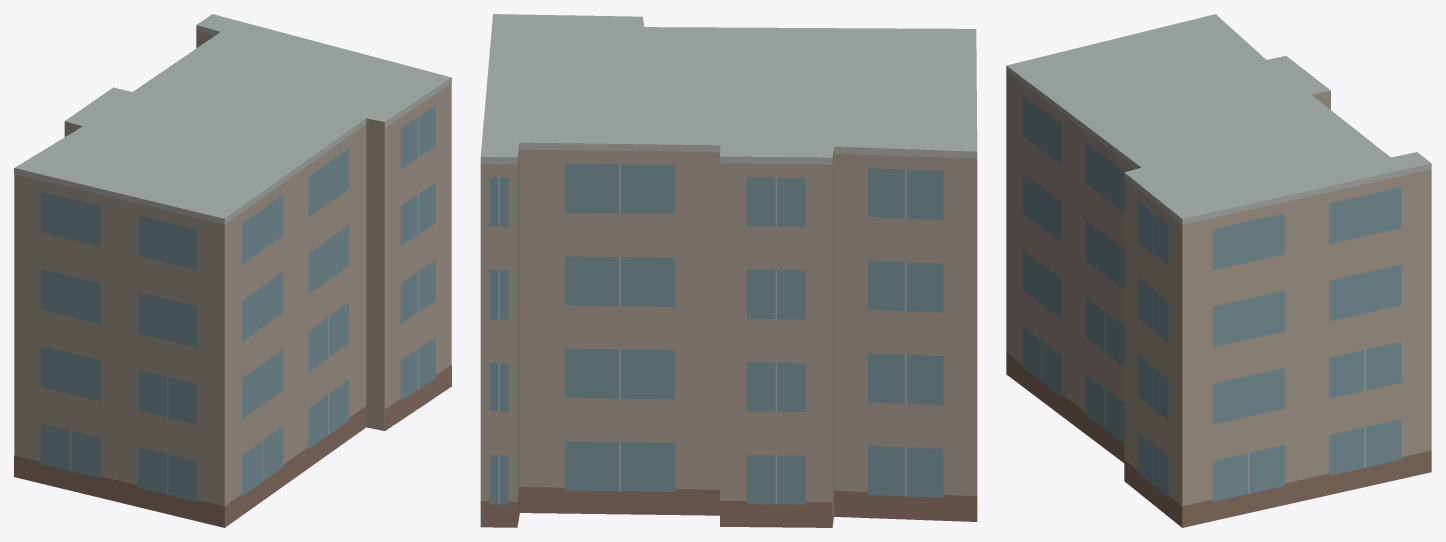
The model's file is survey-upis-32508800.glb.
3 views of the same model, side by side, from view 1: azimuth 30°, elevation 25°; view 2: azimuth 150°, elevation 25°; view 3: azimuth 270°, elevation 25° (orthographic). The views are drawn at different scales.
Parts seen in each view (by area): view 1: survey-upis-32508800.tmp; view 2: survey-upis-32508800.tmp; view 3: survey-upis-32508800.tmp.
Boxes of the visible parts, bbox=[...] form: survey-upis-32508800.tmp: bbox=[14, 14, 451, 527]; survey-upis-32508800.tmp: bbox=[480, 14, 977, 527]; survey-upis-32508800.tmp: bbox=[1006, 14, 1431, 527].
Size of the model in its own units: 18.4 by 12.9 by 16.12.
